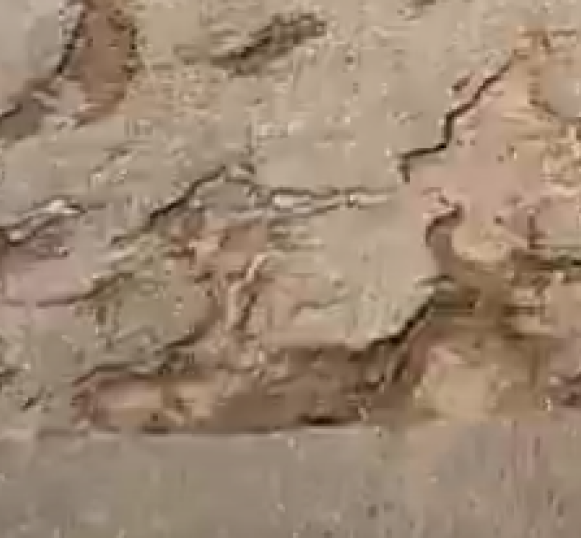Berlubang: (23, 167, 581, 451), (368, 46, 581, 175), (30, 1, 140, 132), (179, 11, 348, 89)
